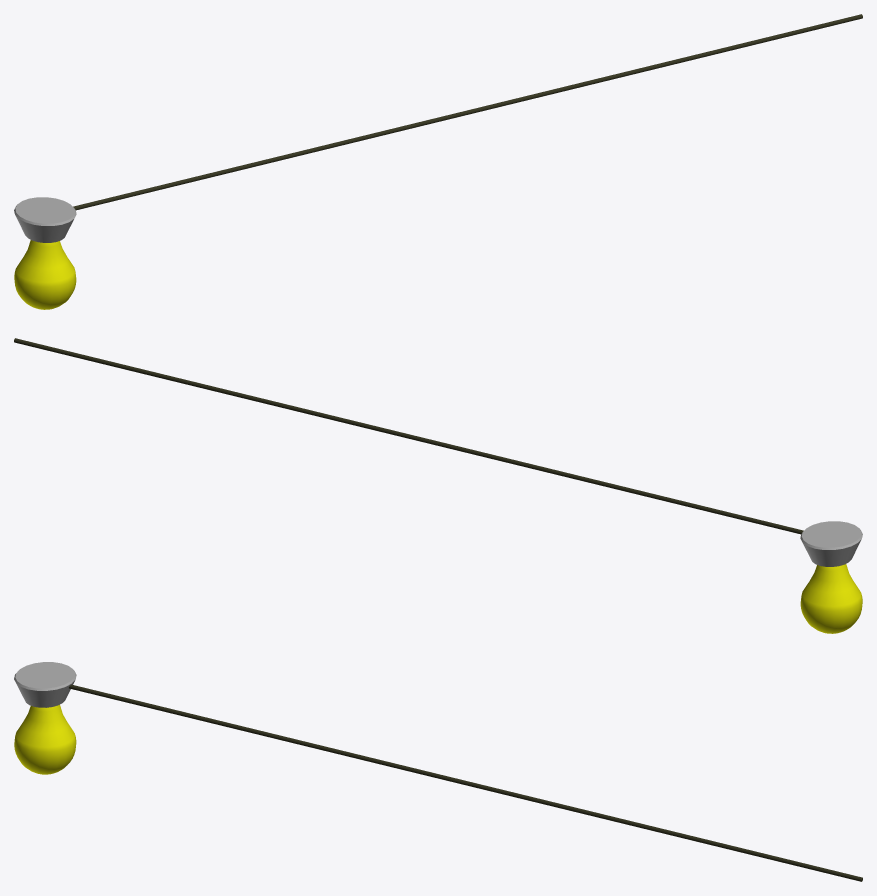
The model's file is En_P_HeadLamp2.fbx.
The picture shows the model from 3 angles, top to bottom: view 1: azimuth 30°, elevation 25°; view 2: azimuth 150°, elevation 25°; view 3: azimuth 330°, elevation 25°; orthographic projection.
Parts seen in each view (by area): view 1: En_P_HeadLamp2; view 2: En_P_HeadLamp2; view 3: En_P_HeadLamp2.
Boxes of the visible parts, x1,y1,x2,y2 form: En_P_HeadLamp2: (14,14,862,309); En_P_HeadLamp2: (14,338,862,633); En_P_HeadLamp2: (14,662,862,881).
Bounding box in the file's own units: 155 × 16.94 × 10.75.
